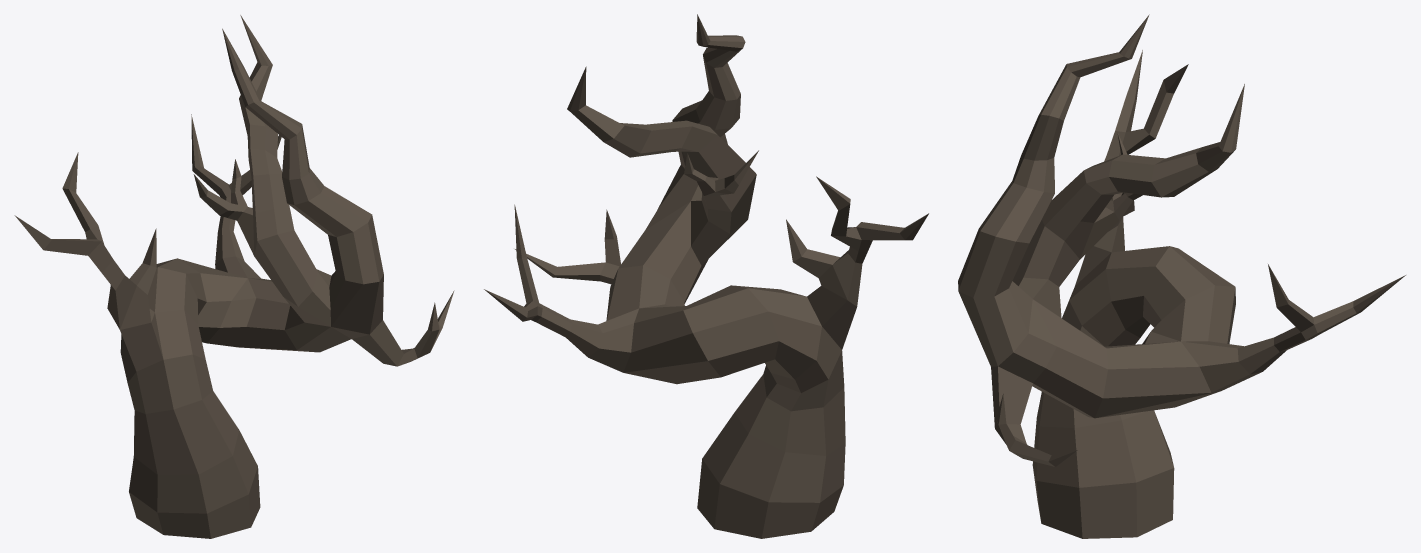
File: swamp_trees7.fbx
3 views of the same model, side by side, from view 1: azimuth 30°, elevation 25°; view 2: azimuth 150°, elevation 25°; view 3: azimuth 270°, elevation 25° (orthographic). The views are drawn at different scales.
Parts seen in each view (by area): view 1: Cylinder.020; view 2: Cylinder.020; view 3: Cylinder.020.
Boxes of the visible parts, x1,y1,x2,y2 form: Cylinder.020: (14,15,454,538); Cylinder.020: (484,14,928,538); Cylinder.020: (958,14,1405,538).
Bounding box in the file's own units: 623 × 665 × 520.
